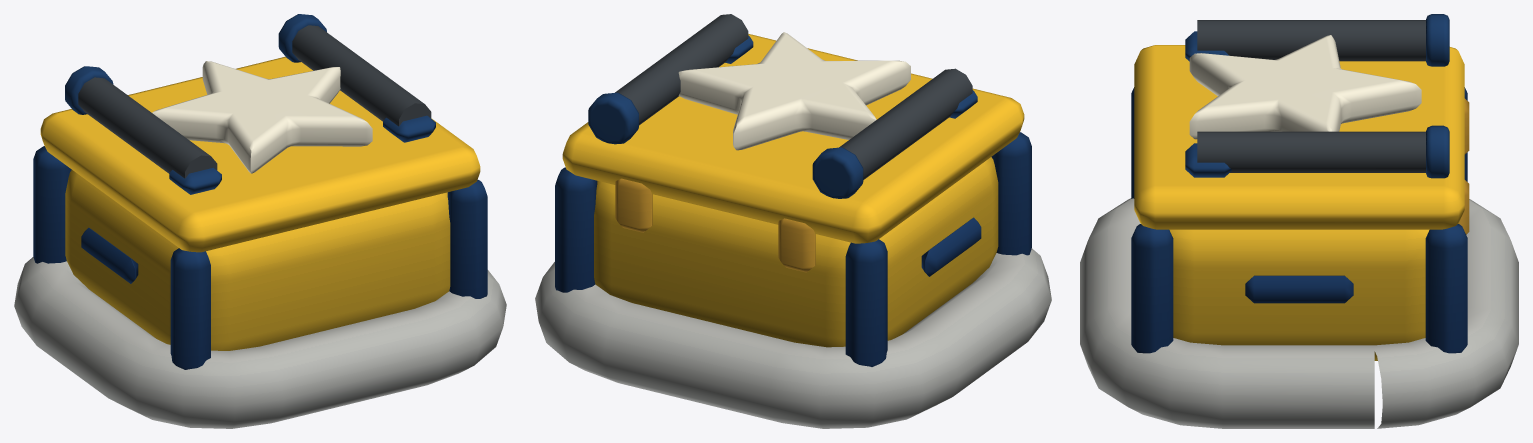
Rendered from pickup-star.glb.
The picture shows the model from 3 angles, left to right: view 1: azimuth 30°, elevation 25°; view 2: azimuth 150°, elevation 25°; view 3: azimuth 270°, elevation 25°; orthographic projection. The views are drawn at different scales.
Parts seen in each view (by area): view 1: pickup-star Sunflower, pickup-star Warm white, pickup-star Kestrel navy, pickup-star Gunmetal; view 2: pickup-star Sunflower, pickup-star Warm white, pickup-star Kestrel navy, pickup-star Gunmetal, pickup-star Brass; view 3: pickup-star Warm white, pickup-star Sunflower, pickup-star Kestrel navy, pickup-star Gunmetal, pickup-star Brass.
Part boxes in pixels (bbox=[...]): pickup-star Sunflower: bbox=[40, 56, 480, 350]; pickup-star Warm white: bbox=[14, 61, 506, 428]; pickup-star Kestrel navy: bbox=[33, 14, 487, 369]; pickup-star Gunmetal: bbox=[78, 25, 431, 178]; pickup-star Sunflower: bbox=[562, 34, 1024, 347]; pickup-star Warm white: bbox=[535, 32, 1051, 428]; pickup-star Kestrel navy: bbox=[555, 35, 1031, 366]; pickup-star Gunmetal: bbox=[615, 14, 972, 179]; pickup-star Brass: bbox=[615, 178, 815, 272]; pickup-star Warm white: bbox=[1080, 35, 1518, 428]; pickup-star Sunflower: bbox=[1134, 45, 1464, 360]; pickup-star Kestrel navy: bbox=[1131, 14, 1467, 353]; pickup-star Gunmetal: bbox=[1197, 20, 1425, 172]; pickup-star Brass: bbox=[1458, 98, 1469, 234].
Size of the model in its own units: 1.6 by 0.9831 by 1.46.
5 materials, 5 textured.
